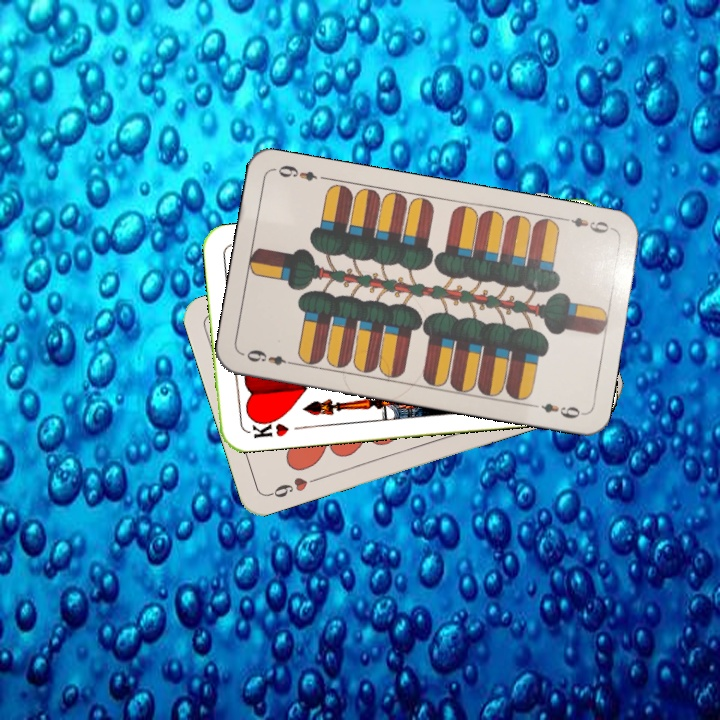E9: (558, 213, 616, 236), (242, 345, 298, 368)
H9: (264, 473, 322, 501)
HK: (247, 413, 291, 441)
